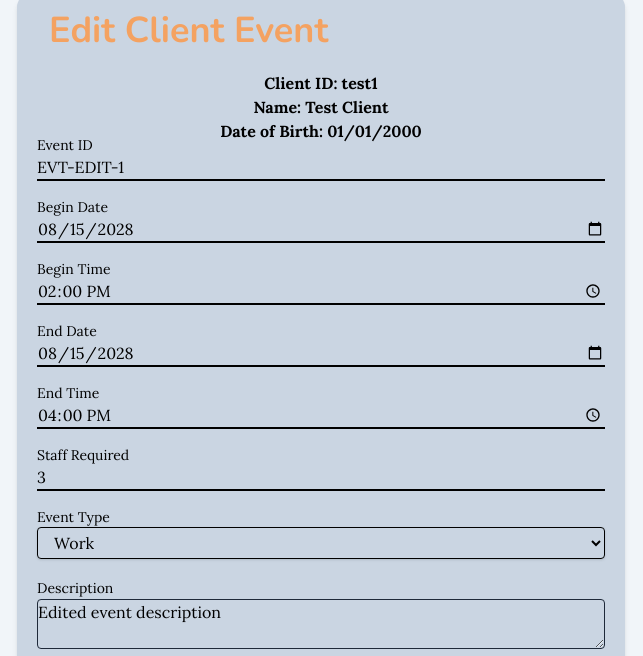
Test: EditClientEventPage › should display validation errors
Clear the date field labelled "Begin Date": (321, 230) x1=37 y1=217 x2=605 y2=243
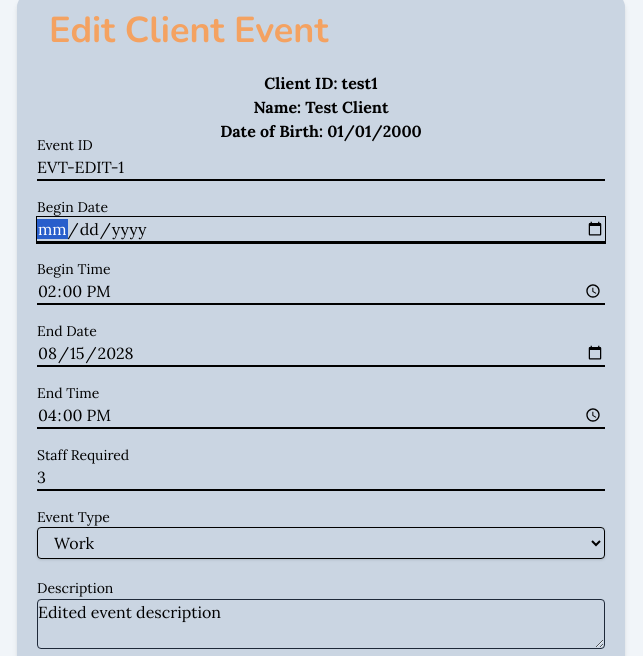
Clear the date field labelled "End Date": (321, 354) x1=37 y1=341 x2=605 y2=367
(page scrolled)
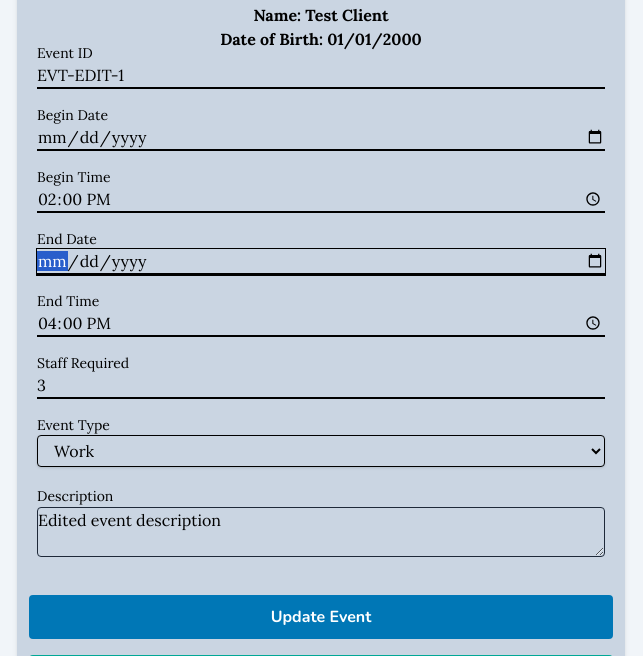
Click the button "Update Event": (321, 617) x1=29 y1=595 x2=613 y2=639
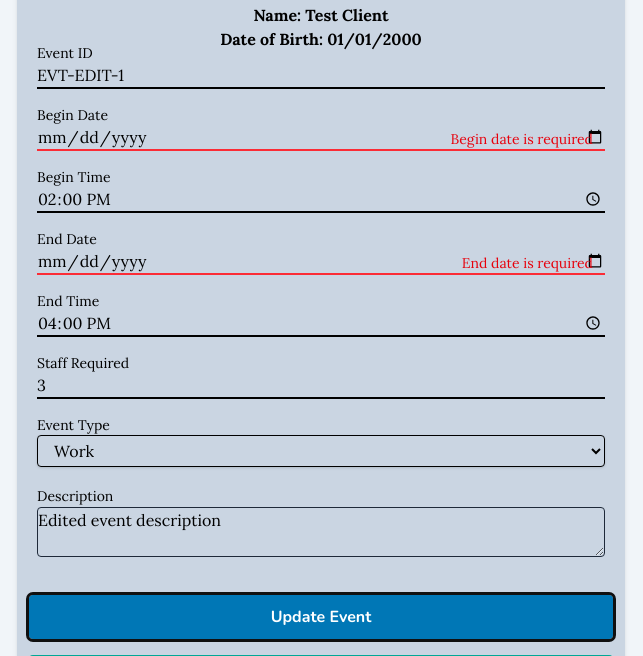
Check: the text "Begin date is required" is shown, box x1=450 y1=129 x2=593 y2=149
Check: the text "End date is required" is shown, box x1=462 y1=253 x2=593 y2=273
